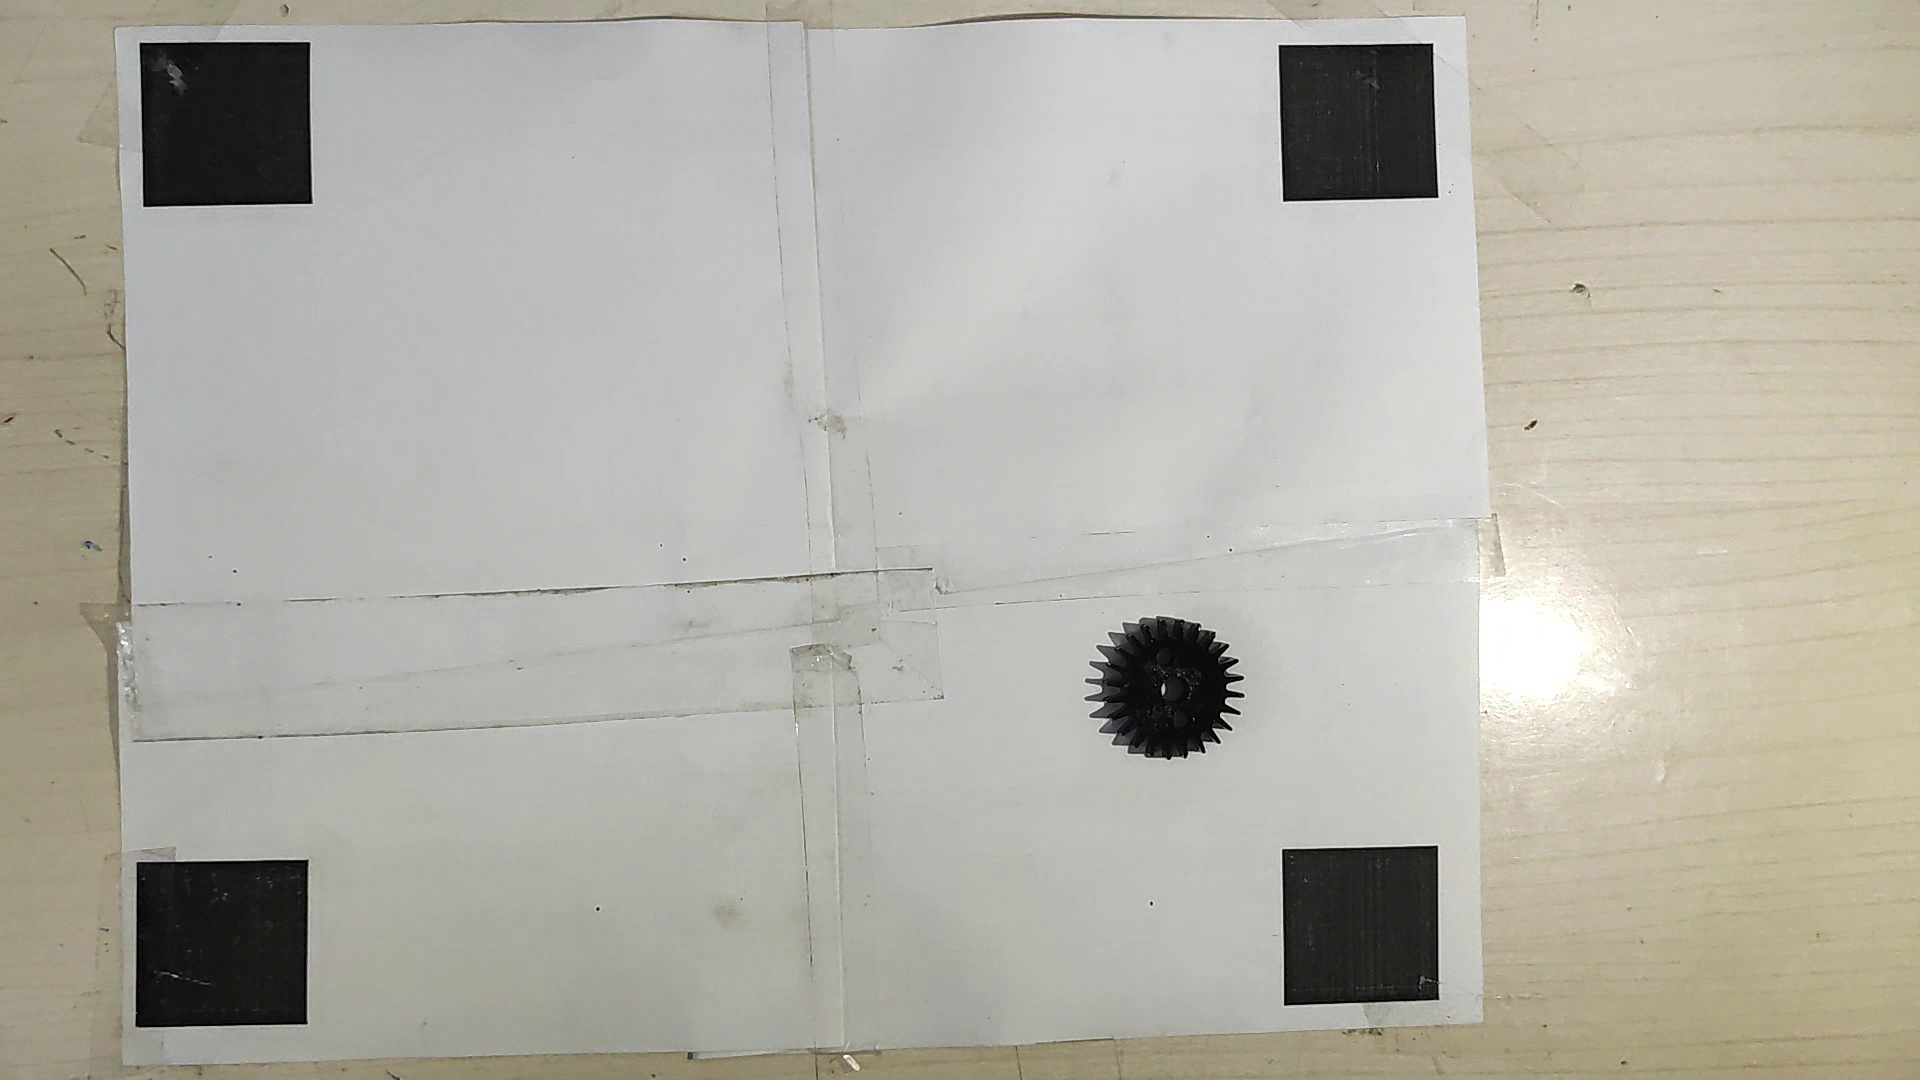Gear: (1083, 611, 1246, 762)
